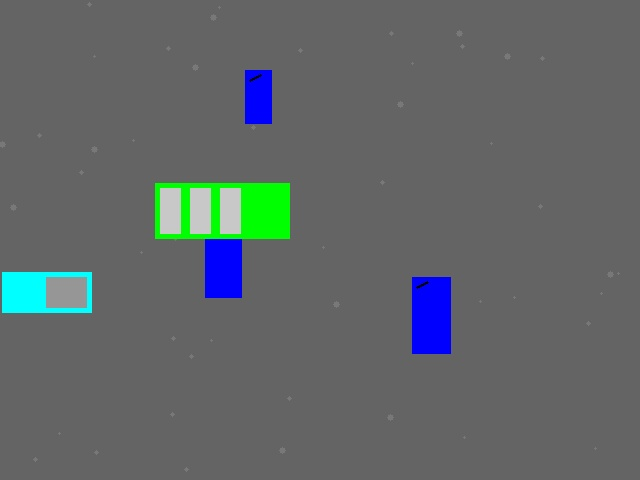bus: (155, 183, 289, 238)
motorcycle: (412, 277, 450, 353), (205, 224, 241, 297), (245, 70, 271, 123)
truck: (2, 272, 91, 312)
